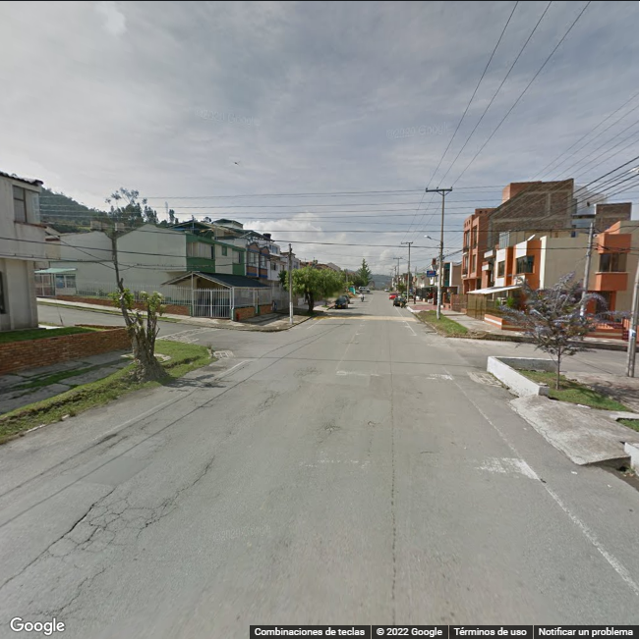D00: (1, 487, 110, 583), (156, 456, 217, 511), (36, 570, 93, 615), (85, 486, 133, 524)
D10: (44, 545, 68, 564)
